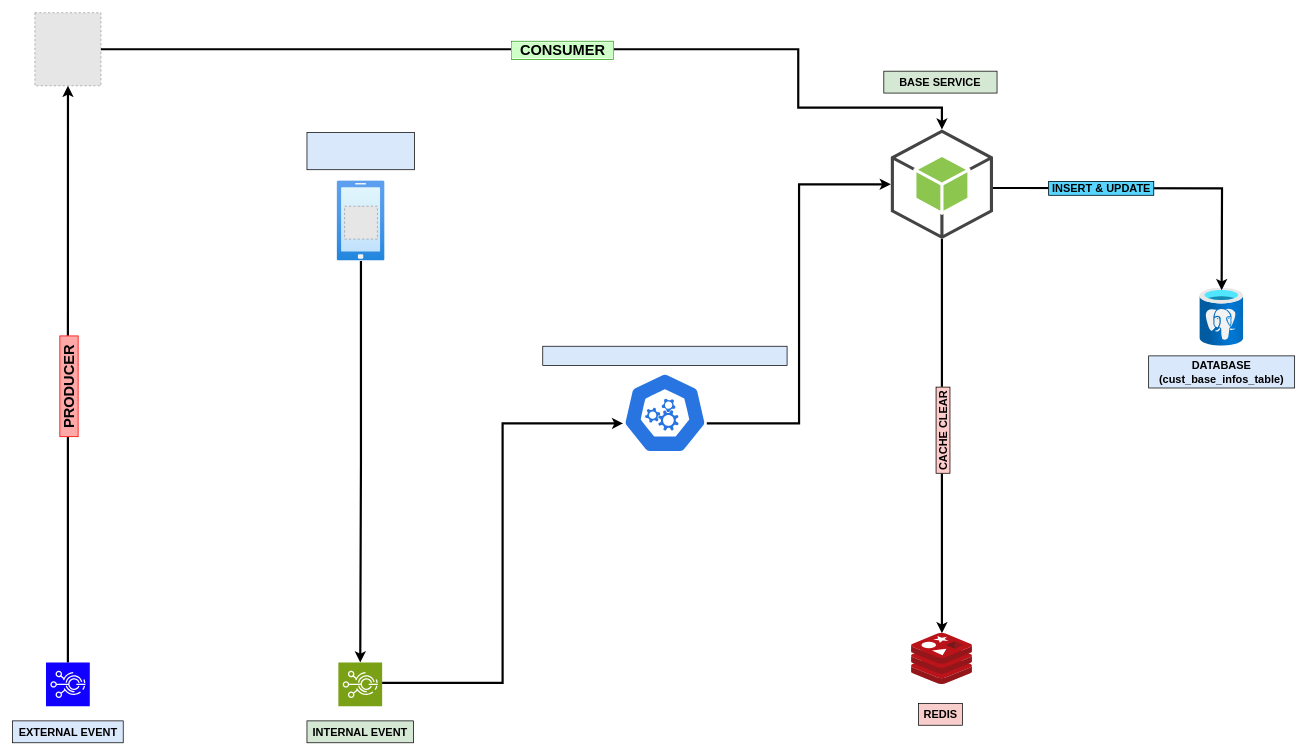
The diagram is 1308 pixels wide and 756 high, and some of its shapes have lost their labels. Grey dashed boxes stand in for pictures. Here are the shapes that lost their labels. From the top down, the box of each, then its label:
(306, 132, 415, 170): INTERNAL myWorldLink
(542, 346, 787, 366): CUSTOMER MOBILE APP GATEWAY SERVICE
